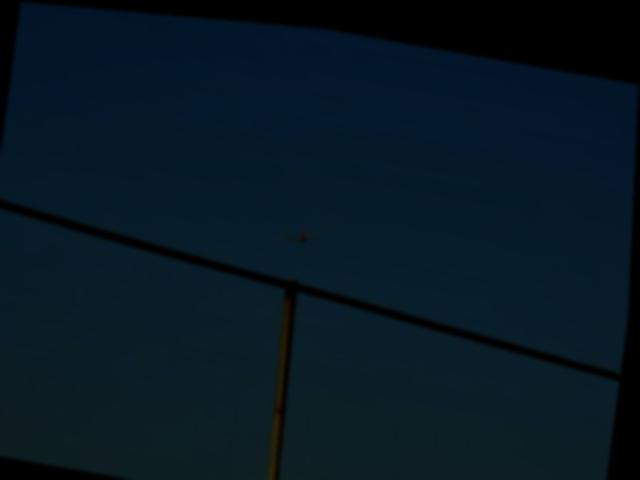iha: (274, 209, 334, 245)
